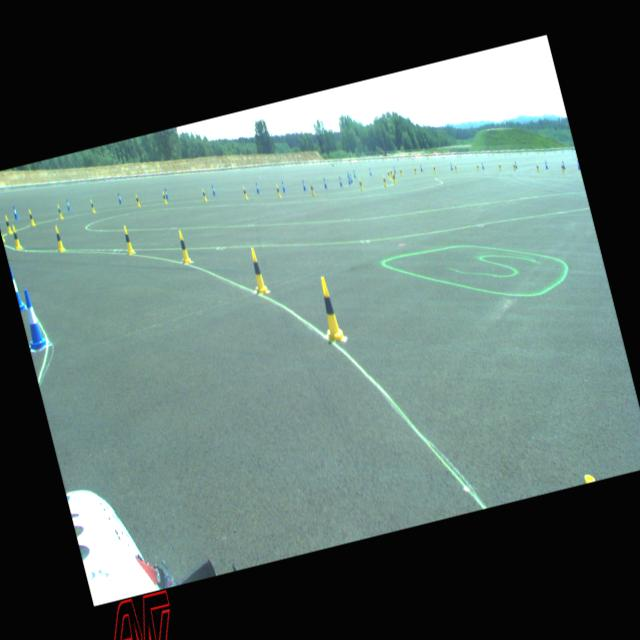blue_cone: (17, 287, 47, 350), (9, 263, 26, 310), (10, 203, 18, 220), (64, 197, 72, 211), (116, 191, 123, 204), (210, 183, 216, 196), (163, 187, 169, 199), (280, 180, 286, 192), (254, 182, 260, 193), (322, 176, 327, 188), (301, 179, 306, 190), (346, 174, 351, 185), (346, 171, 351, 181), (338, 176, 342, 187), (561, 158, 565, 169), (352, 168, 356, 178), (348, 172, 352, 182), (544, 160, 548, 169), (576, 160, 580, 169), (449, 162, 453, 170), (480, 161, 484, 169), (368, 167, 372, 175), (418, 164, 422, 172), (392, 165, 396, 173), (513, 160, 517, 168)
yellow_cone: (314, 274, 346, 343), (244, 246, 269, 295), (174, 228, 192, 265), (120, 223, 135, 254), (52, 224, 66, 252), (10, 224, 22, 250), (3, 214, 13, 234), (27, 209, 35, 226), (56, 203, 64, 219), (274, 183, 282, 198), (200, 187, 208, 201), (134, 192, 141, 208), (160, 190, 168, 204), (88, 198, 95, 213), (0, 220, 5, 241), (308, 182, 316, 195), (242, 184, 248, 200), (357, 177, 363, 190), (381, 174, 387, 187), (391, 172, 396, 184), (392, 170, 397, 181), (560, 162, 565, 172), (412, 165, 417, 174), (536, 162, 540, 172), (386, 169, 390, 179), (498, 162, 502, 171), (398, 167, 402, 176), (432, 164, 436, 173), (453, 164, 457, 172), (512, 162, 516, 170), (476, 163, 480, 171), (389, 168, 393, 176)
